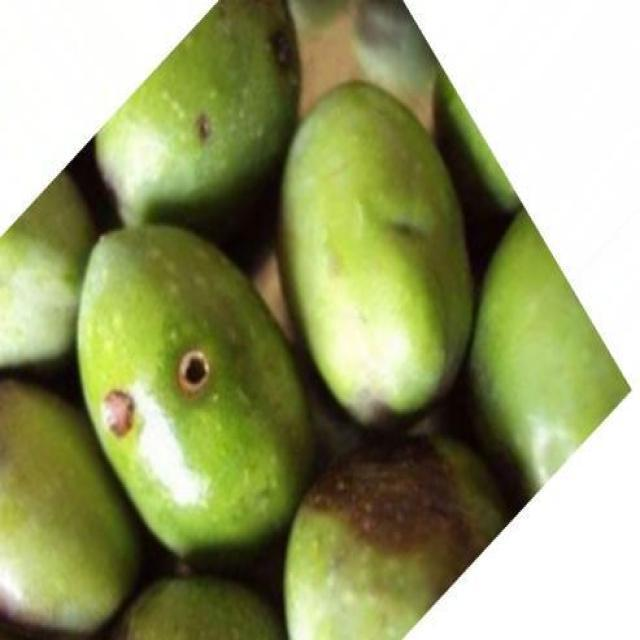Anthracnose: (78, 228, 309, 542), (98, 0, 298, 223), (283, 439, 502, 638)
